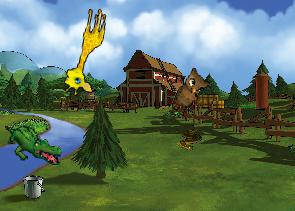crocodile: (1, 123, 64, 166)
giraffe: (61, 4, 108, 98)
owl: (170, 65, 213, 119)
